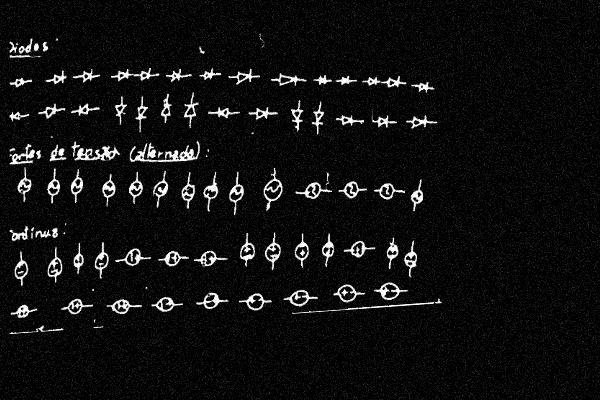diode: (275, 70, 301, 88), (233, 66, 254, 86), (251, 104, 273, 122), (183, 97, 199, 121), (41, 102, 61, 121), (311, 104, 325, 131), (159, 95, 174, 120), (214, 103, 233, 122), (409, 113, 430, 130), (75, 100, 93, 119), (80, 66, 97, 86), (168, 67, 188, 84), (290, 104, 304, 127), (50, 67, 66, 87), (115, 66, 131, 85), (114, 101, 128, 121), (201, 66, 218, 82), (414, 80, 432, 95), (374, 114, 392, 129), (137, 67, 153, 83), (339, 112, 355, 128), (338, 73, 355, 88), (384, 74, 401, 89), (135, 104, 148, 123), (364, 73, 379, 88), (315, 71, 329, 87), (9, 109, 23, 123), (13, 76, 26, 89)
signal: (262, 173, 284, 207), (376, 180, 399, 202), (301, 180, 325, 201), (152, 175, 169, 204), (202, 178, 220, 205), (341, 179, 363, 201), (128, 173, 144, 201), (101, 176, 117, 204), (228, 180, 245, 206), (16, 174, 33, 200), (181, 178, 196, 206), (45, 174, 60, 200), (68, 174, 84, 198), (410, 186, 425, 206)
voltage: (335, 281, 361, 305), (242, 289, 268, 313), (378, 279, 403, 302), (108, 294, 134, 316), (62, 295, 88, 317), (286, 288, 313, 309), (122, 246, 146, 269), (263, 238, 282, 267), (196, 247, 221, 269), (154, 293, 178, 315), (46, 253, 63, 282), (13, 257, 31, 284), (238, 238, 256, 265), (200, 290, 223, 311), (93, 247, 110, 275), (293, 237, 310, 265), (347, 238, 369, 259), (12, 300, 34, 320), (320, 237, 336, 263), (403, 247, 419, 273), (163, 247, 182, 268), (385, 239, 399, 264), (72, 251, 85, 272)
